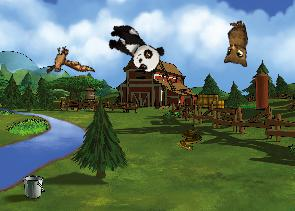eagle: (39, 38, 95, 87)
owl: (216, 19, 252, 70)
panda: (101, 19, 168, 77)
